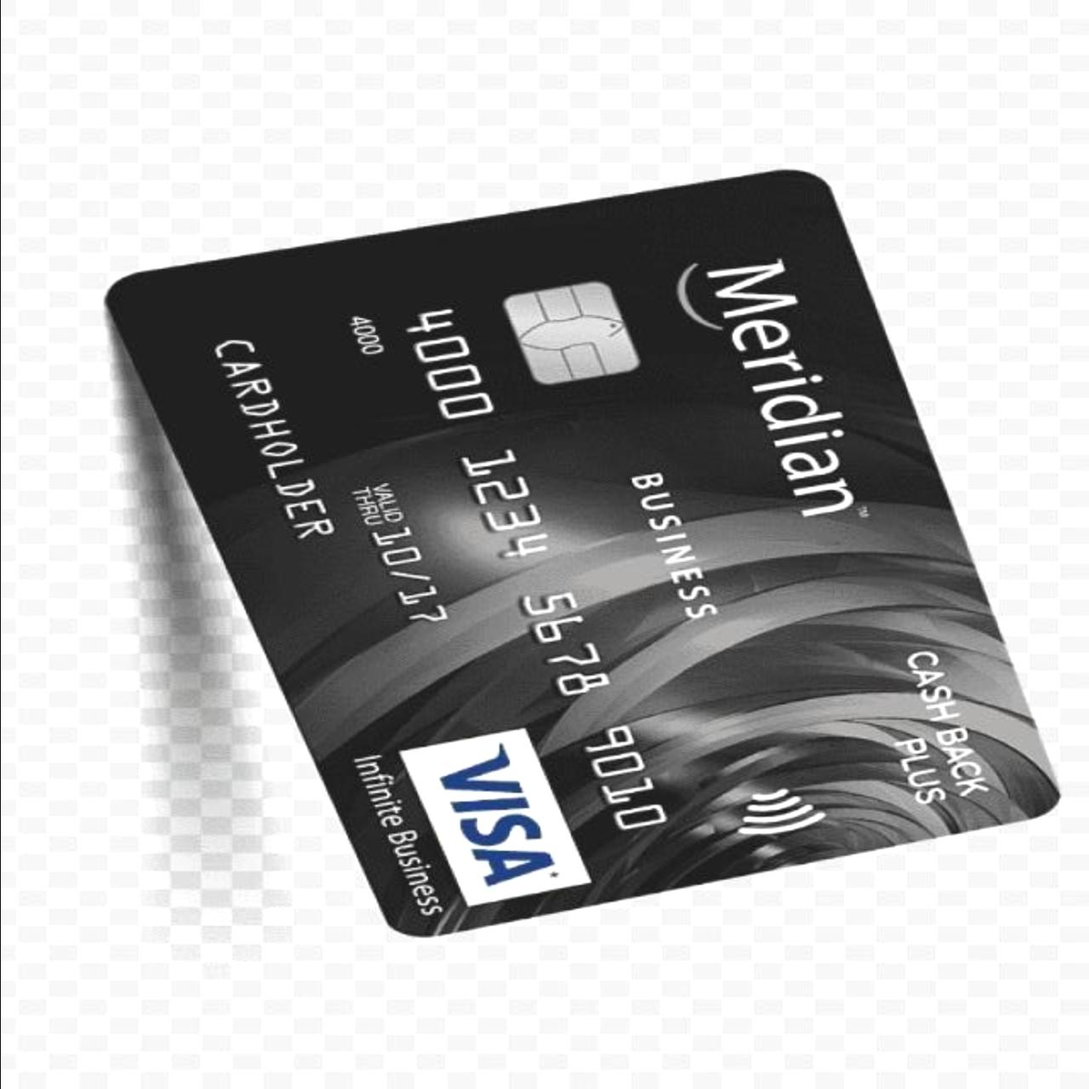credit_card: (95, 167, 1058, 949)
